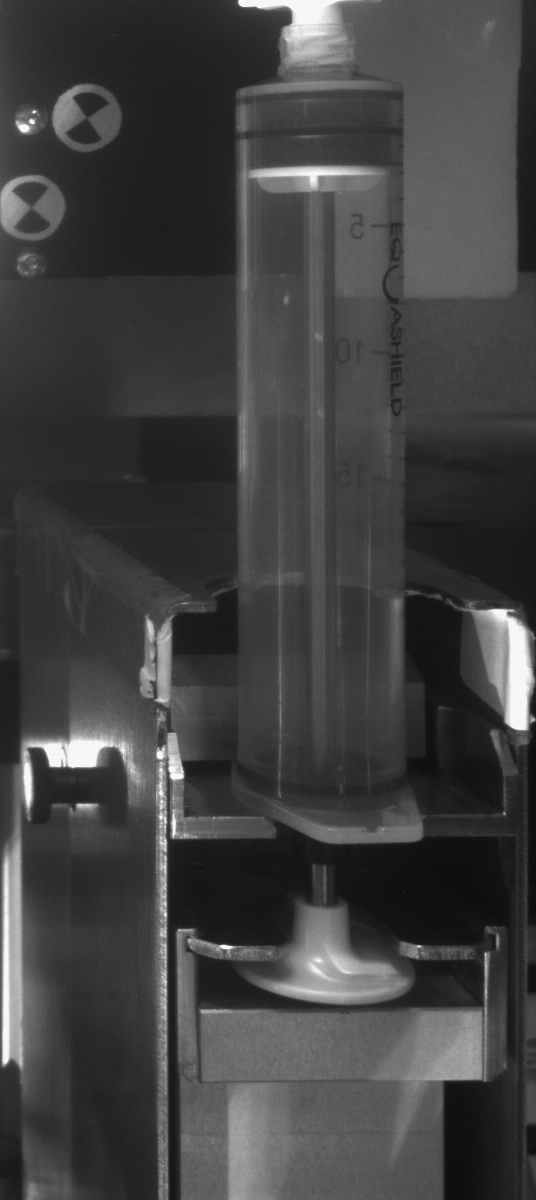piston: (234, 105, 403, 195)
